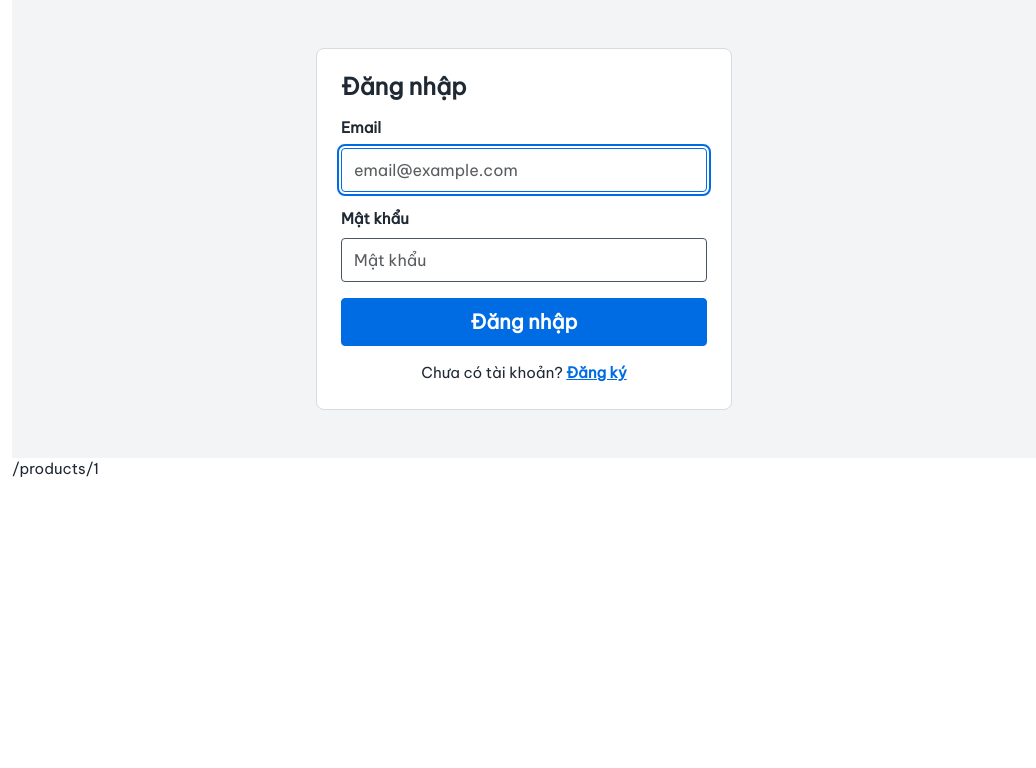
Test case: chuyển giữa hai trang › giữ tham số quay lại (state.from)
The image size is (1036, 768).
Check: the text with test id "from" reads "/products/1", box left=12, top=459, right=99, bottom=478
Click the link "Đăng ký".
click(596, 373)  # box left=566, top=363, right=627, bottom=382
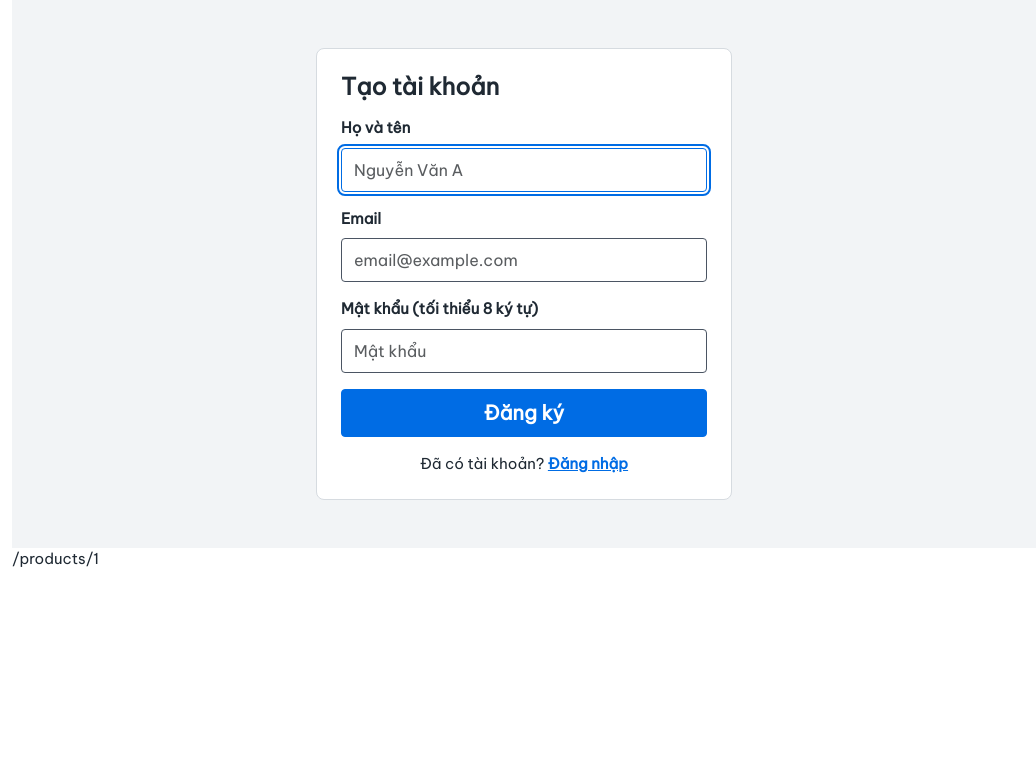
Check: the text with test id "from" reads "/products/1", box left=12, top=549, right=99, bottom=568
Check: the heading "Tạo tài khoản" is shown, box left=341, top=72, right=499, bottom=101
Click the link "Đăng nhập".
click(588, 463)  # box left=548, top=454, right=628, bottom=473
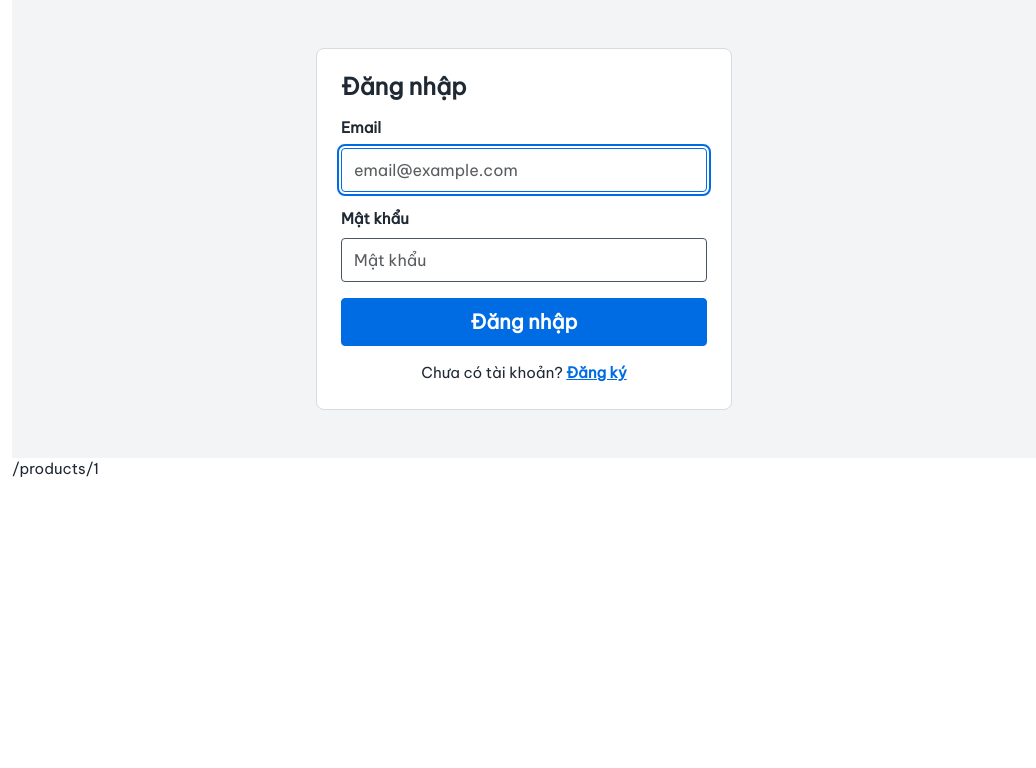
Check: the text with test id "from" reads "/products/1", box left=12, top=459, right=99, bottom=478
Check: the heading "Đăng nhập" is shown, box left=341, top=72, right=466, bottom=101
